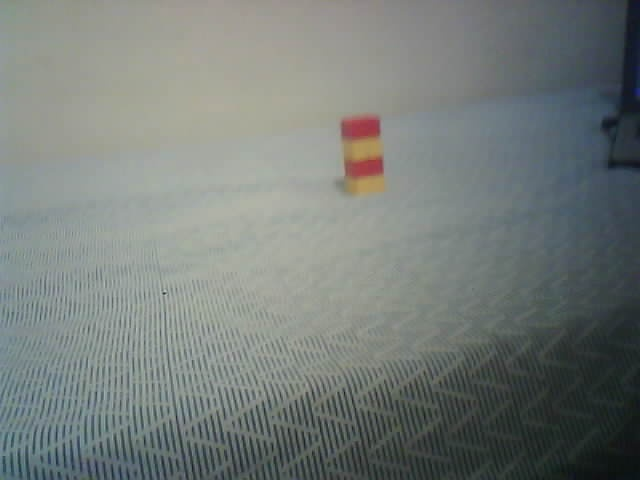lego: (339, 114, 385, 197)
